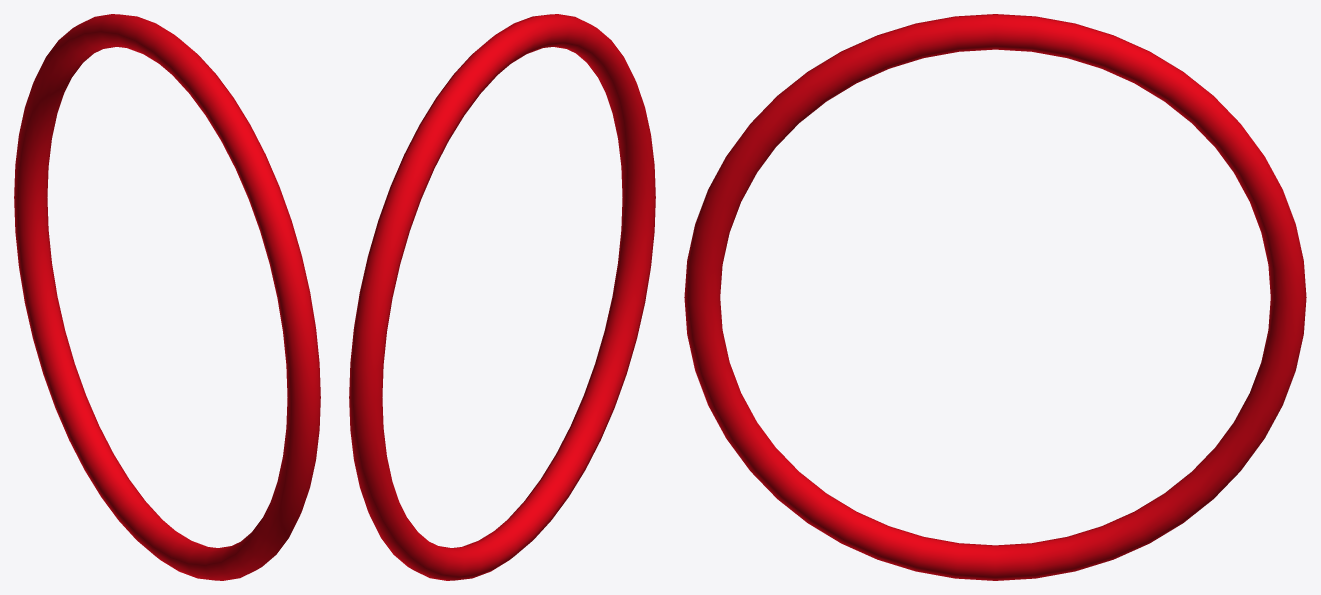
3 views of the same model, side by side, from view 1: azimuth 30°, elevation 25°; view 2: azimuth 150°, elevation 25°; view 3: azimuth 270°, elevation 25° (orthographic). The views are drawn at different scales.
Visible parts, largest first — view 1: Torus.001; view 2: Torus.001; view 3: Torus.001.
Boxes of the visible parts, bbox=[...] form: Torus.001: bbox=[14, 14, 320, 580]; Torus.001: bbox=[349, 14, 655, 580]; Torus.001: bbox=[684, 14, 1306, 580].
Bounding box in the file's own units: 0.26 × 4.52 × 4.52.
